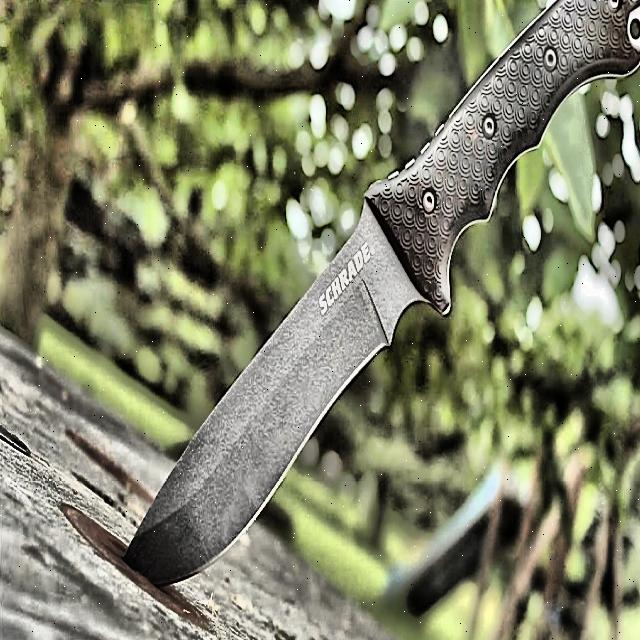knife: (124, 0, 640, 589)
